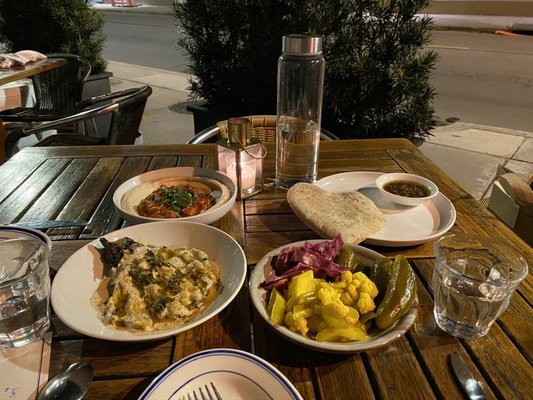pizza: (432, 237, 530, 340), (275, 35, 326, 189), (0, 226, 53, 350)
salad: (37, 361, 94, 400)
sandwich: (447, 350, 500, 400)
sushi: (57, 220, 247, 343), (248, 234, 419, 356), (136, 347, 307, 400), (112, 166, 237, 226), (376, 173, 440, 211)
